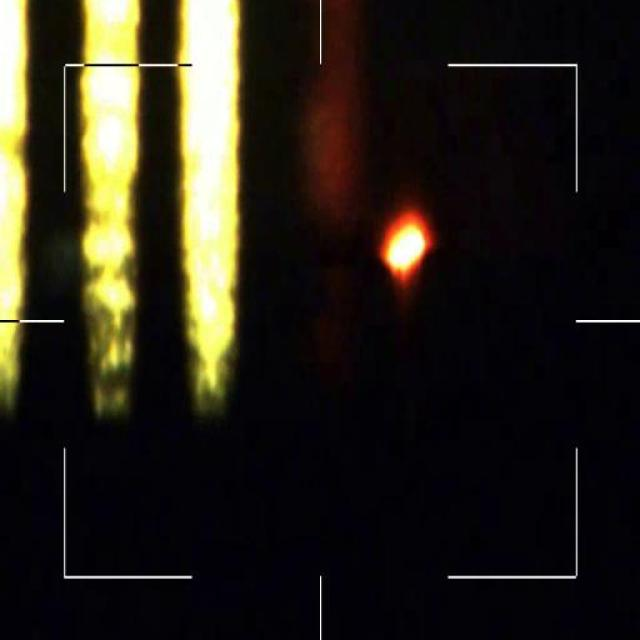bird: (382, 209, 430, 275)
